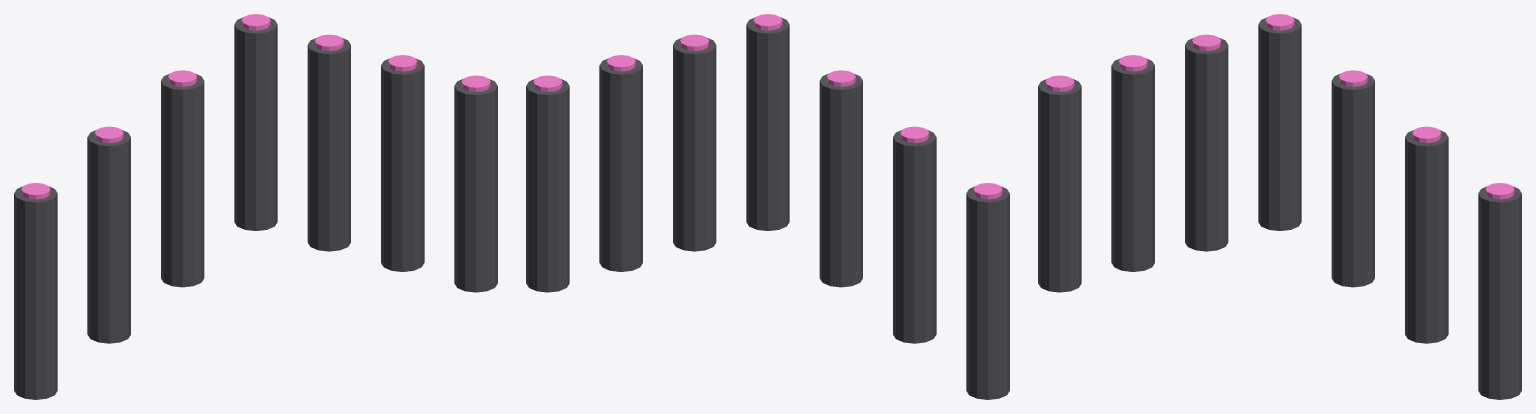
File: SM_Keeper_Hittite_Guns.fbx
The picture shows the model from 3 angles, left to right: view 1: azimuth 30°, elevation 25°; view 2: azimuth 150°, elevation 25°; view 3: azimuth 330°, elevation 25°; orthographic projection.
Parts seen in each view (by area): view 1: SM_Keeper_Hittite_Guns; view 2: SM_Keeper_Hittite_Guns; view 3: SM_Keeper_Hittite_Guns.
Part boxes in pixels (x1,y1,x2,y2): SM_Keeper_Hittite_Guns: [14, 14, 497, 399]; SM_Keeper_Hittite_Guns: [526, 14, 1009, 399]; SM_Keeper_Hittite_Guns: [1038, 14, 1521, 399].
Size of the model in its own units: 2.28 by 1.44 by 0.18.
